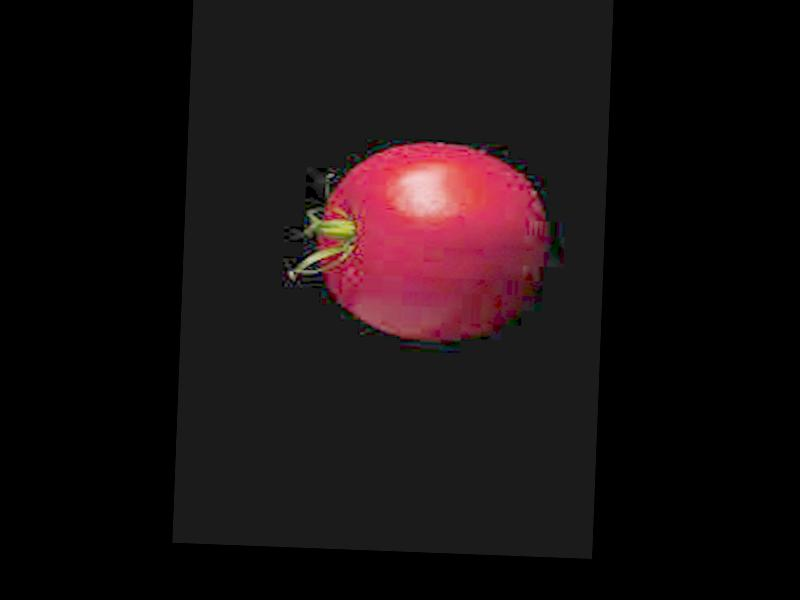Tomato: (315, 140, 543, 343)
